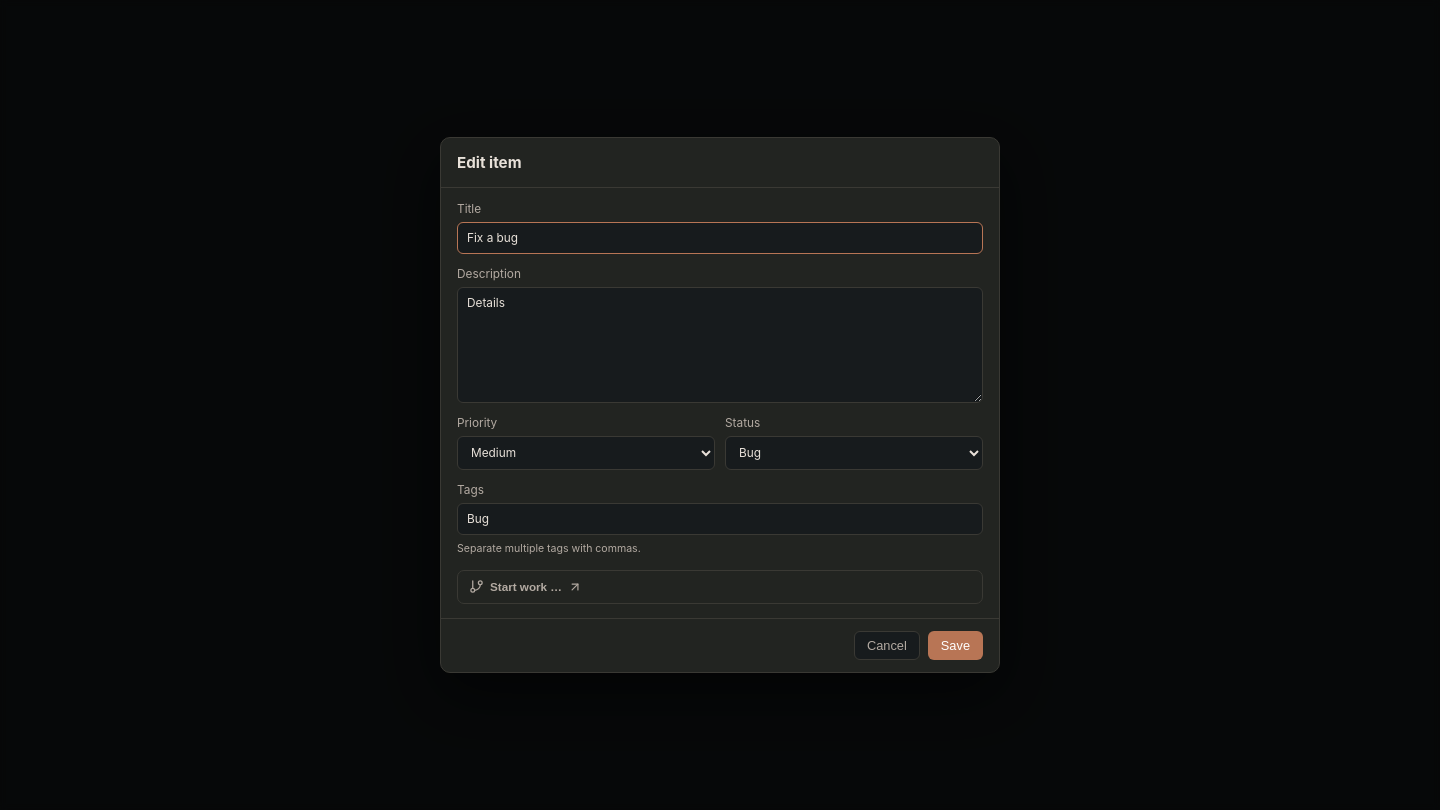
Scenario: independent task workflow › shows the newly active branch immediately after successful start without offering another checkout
Click the button "Start work …" at (526, 587), box [457,570,983,604]
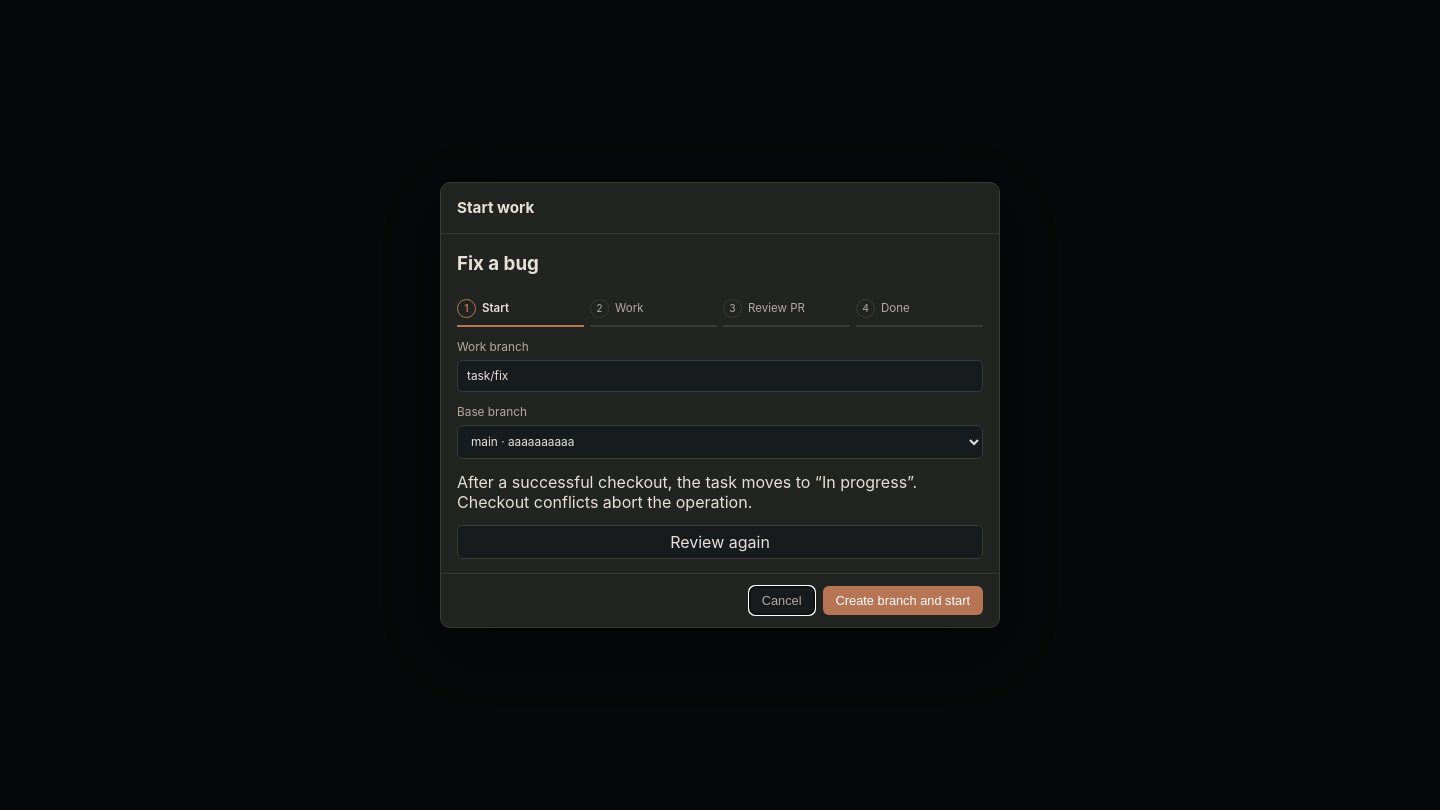
Expected: the list item "1 Start" is shown, [457,292,584,327]
Click the button "Create branch and start" at (903, 600), box [822,586,983,615]
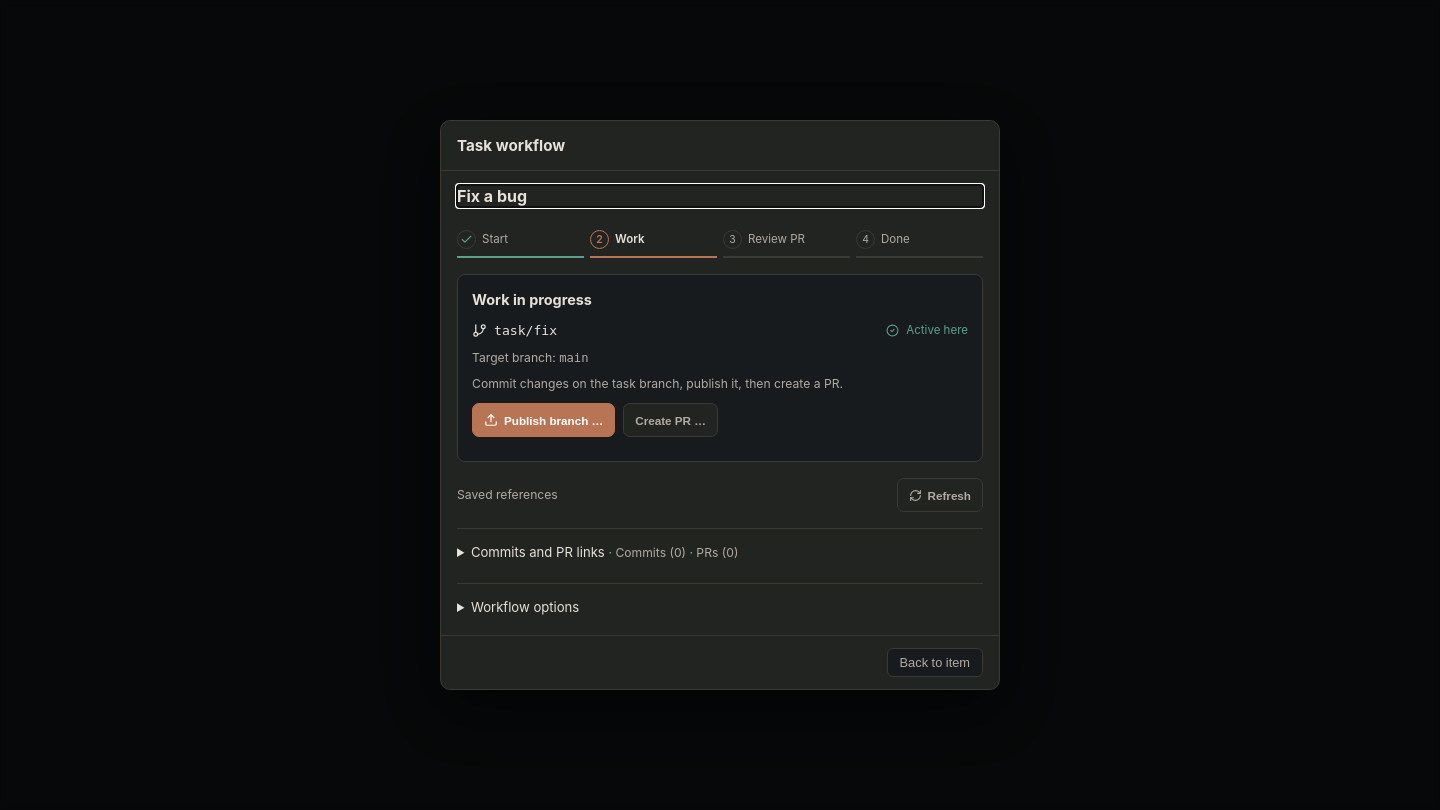
Expected: the list item "2 Work" is shown, [590,223,717,258]
Expected: the text "Active here" is shown, [886,322,968,339]
